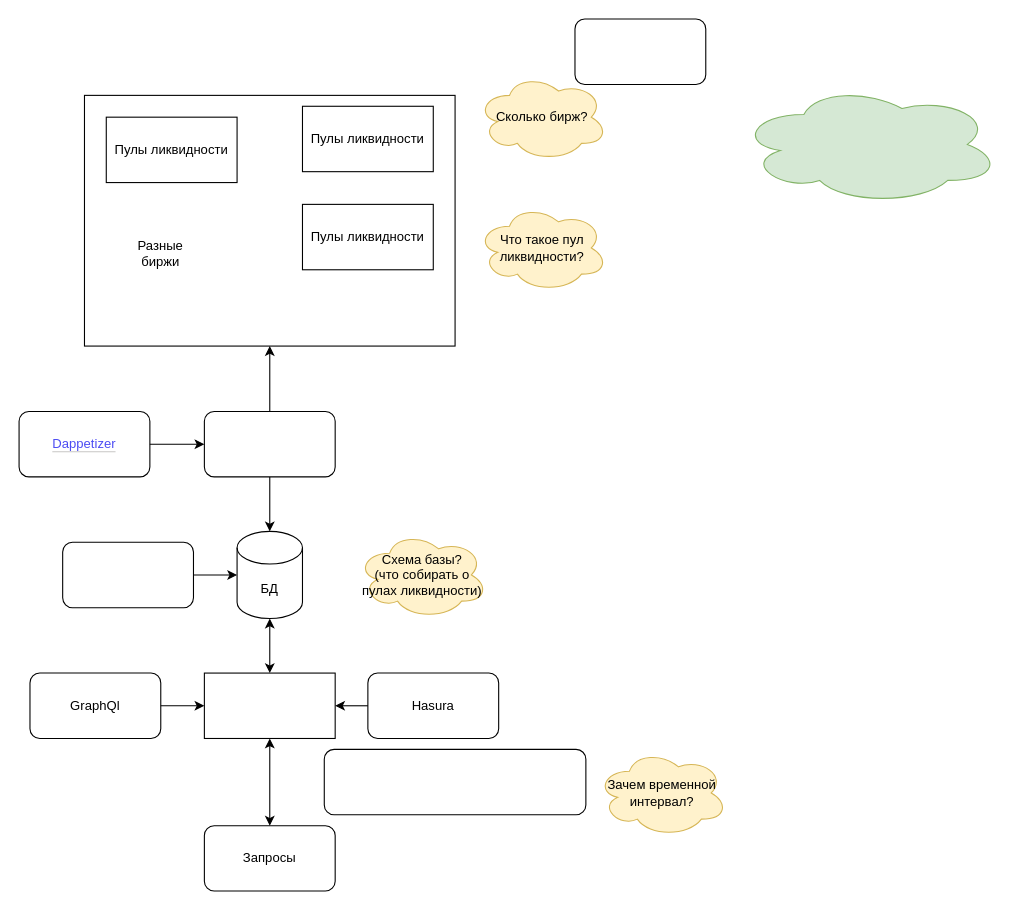
This 1019x910 diagram has some shape labels left out. Each missing label, with the centre of its shape:
"API" belongs at (x=269, y=705).
"PostrgeSQL" belongs at (x=127, y=574).
"двухшаговые межбиржевые возможности? - одна покупка, одна продажа" belongs at (x=868, y=143).
"запрашиваемая пара, сумма обмена, временной интервал." belongs at (x=454, y=781).
"Индексатор" belongs at (x=269, y=443).
"Условия сделок на Tezos" belongs at (x=640, y=51).
